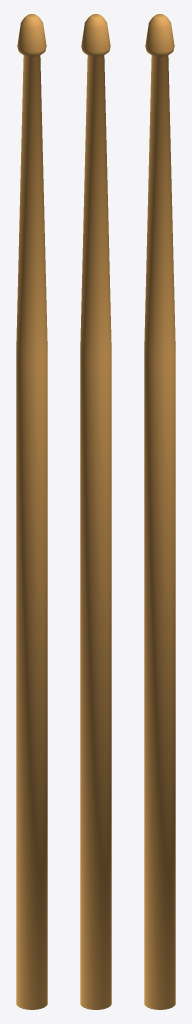
Rendered from Baquetas_unity.fbx.
3 views of the same model, side by side, from view 1: azimuth 90°, elevation 25°; view 2: azimuth 210°, elevation 25°; view 3: azimuth 270°, elevation 25° (orthographic).
Visible parts, largest first — view 1: Cylinder.001; view 2: Cylinder.001; view 3: Cylinder.001.
Part boxes in pixels (box(x1,y1,x2,y2)): Cylinder.001: box(16, 14, 47, 1009); Cylinder.001: box(80, 14, 111, 1009); Cylinder.001: box(144, 14, 175, 1009).
Bounding box in the file's own units: 1.23 × 42.36 × 1.23.
